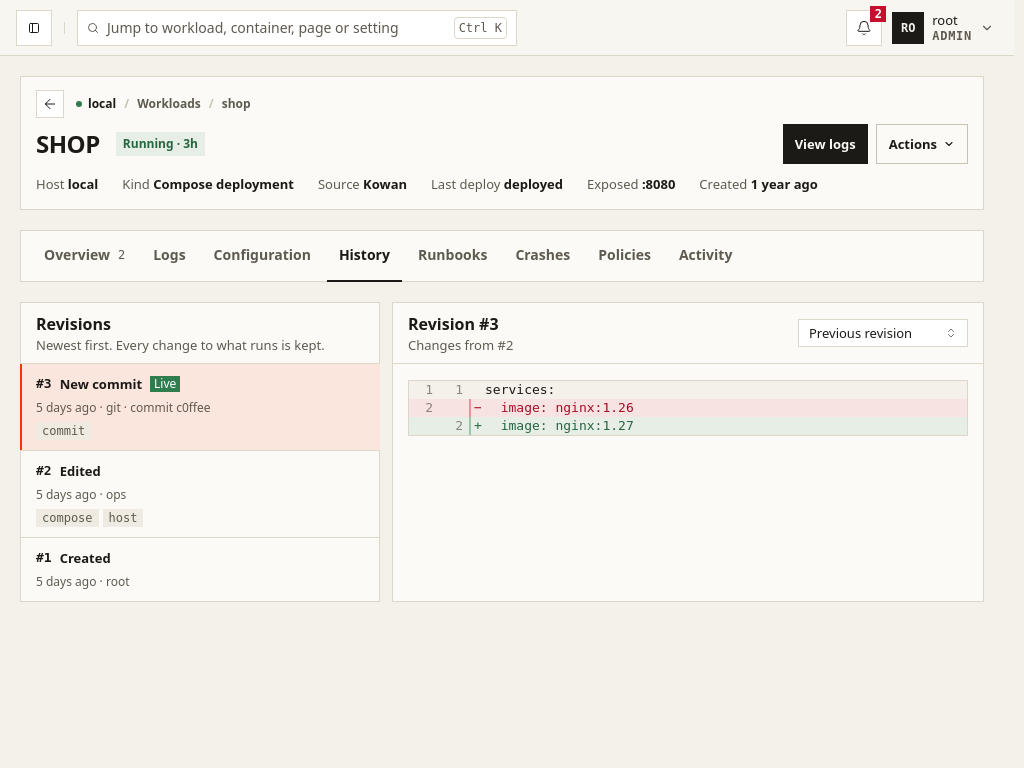
deployment history › diffs a revision against the previous one or any other
expect the list named "Revisions" is shown: met, box x1=20 y1=364 x2=380 y2=602
What coordinates should you click on to do the following:
click the button "#2 Edited 5 days ago · ops compose host"
I would click on:
 (80, 471)
Its box is x1=20 y1=451 x2=380 y2=537.
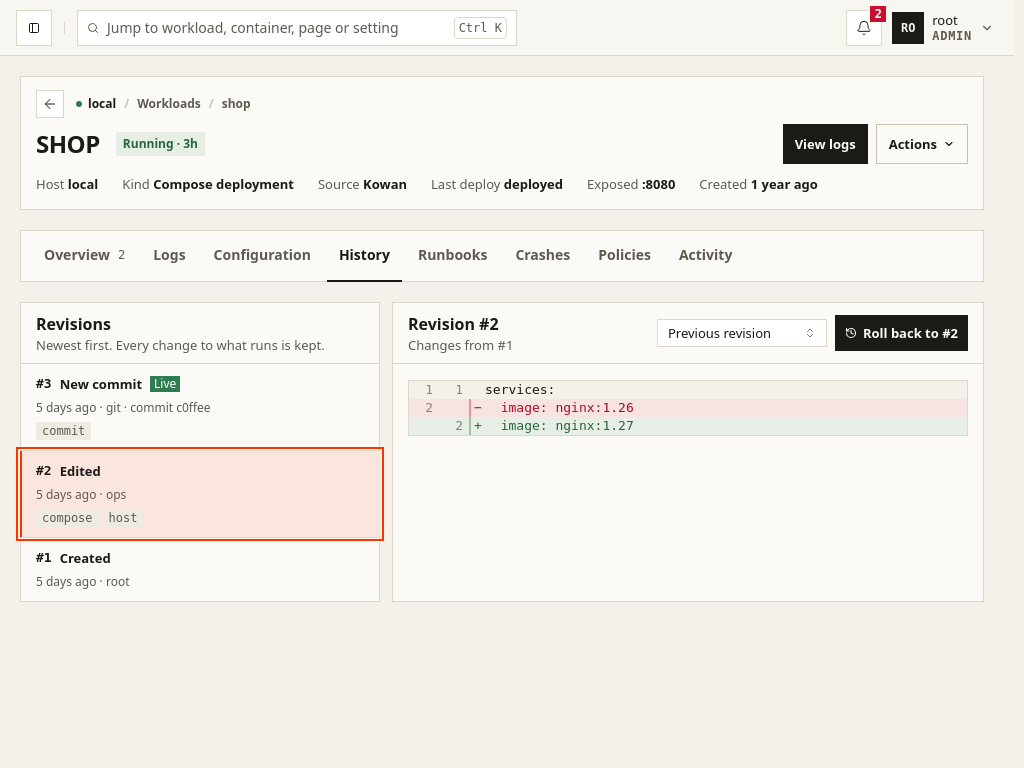
expect the text "image: nginx:1.27" is shown: met, box x1=485 y1=417 x2=646 y2=435
expect the text "Changes from #1" is shown: met, box x1=408 y1=336 x2=513 y2=354
What coordinates should you click on to do the following:
click the dropdown named "Compare with"
I would click on:
 (742, 333)
Its box is x1=657 y1=319 x2=827 y2=347.
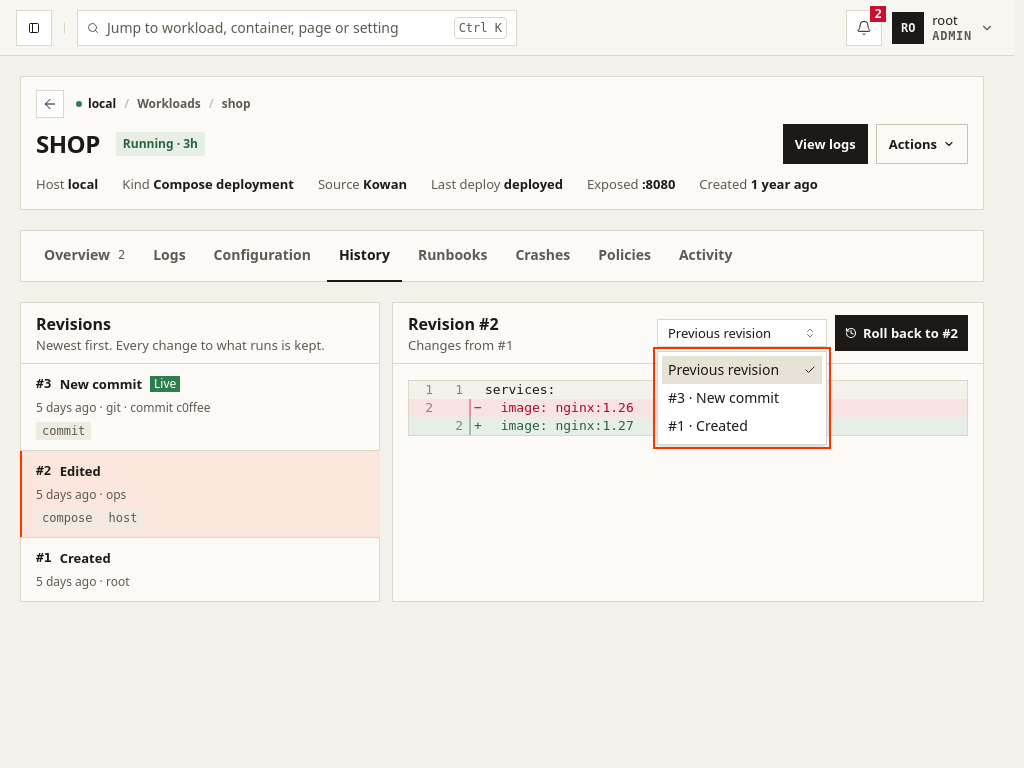
What coordinates should you click on to do the following:
click the option "#3 · New commit"
I would click on:
 (724, 398)
Its box is x1=668 y1=388 x2=779 y2=407.
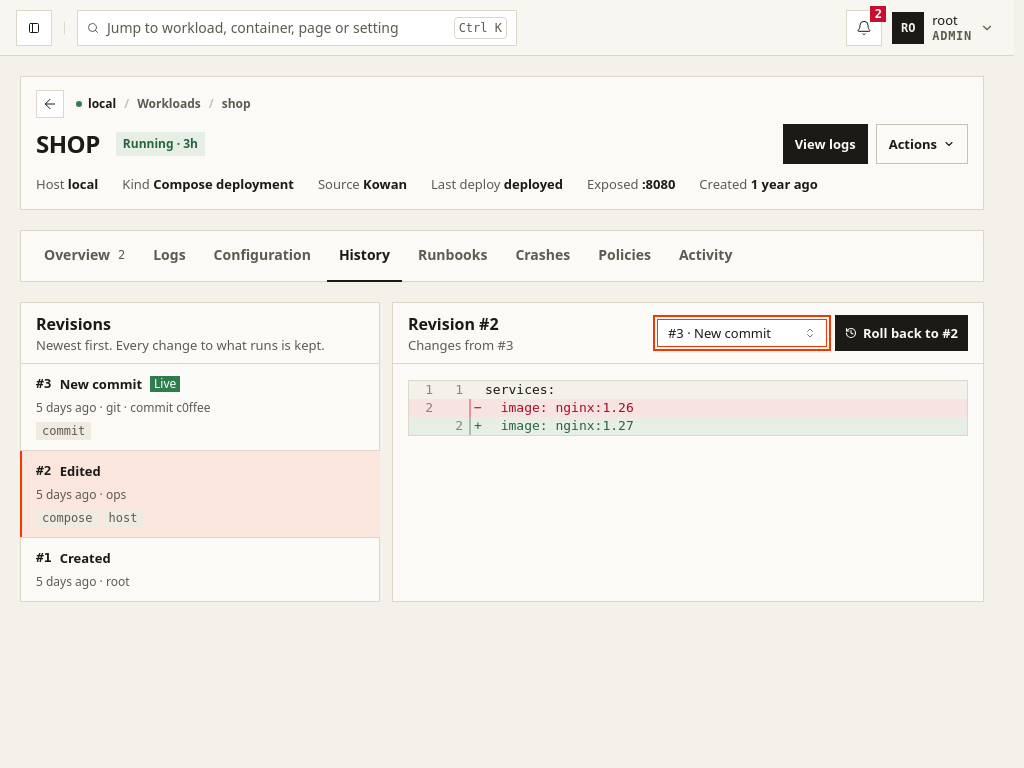
What coordinates should you click on to do the following:
click the button "#1 Created 5 days ago · root"
I would click on:
 (85, 558)
Its box is x1=20 y1=538 x2=380 y2=602.
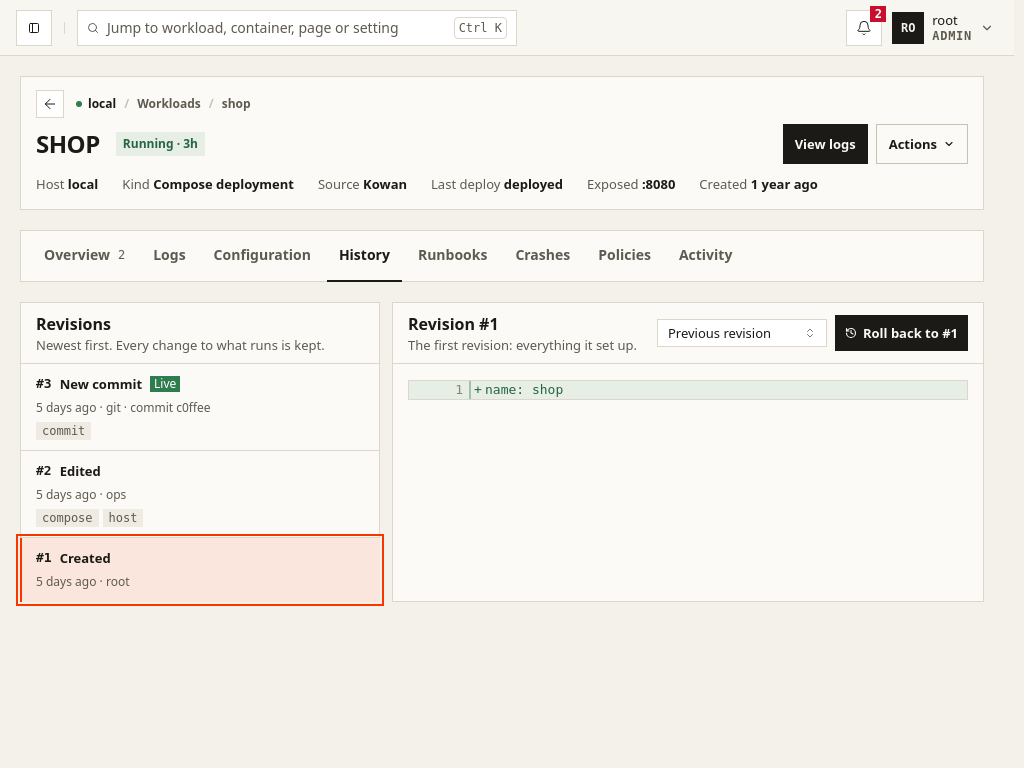
expect the text "The first revision: everything it set up." is shown: met, box x1=408 y1=336 x2=637 y2=354
